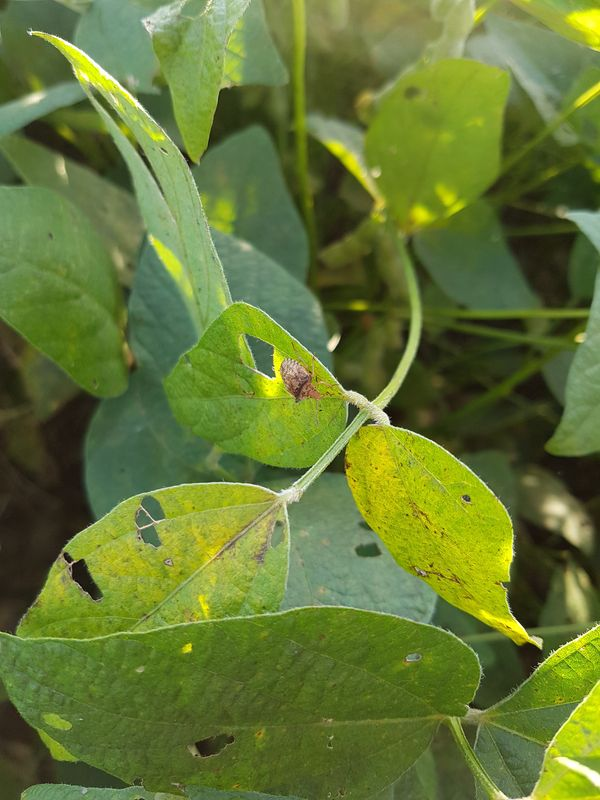Euschistus_heros_ninfa: (270, 352, 331, 411)
